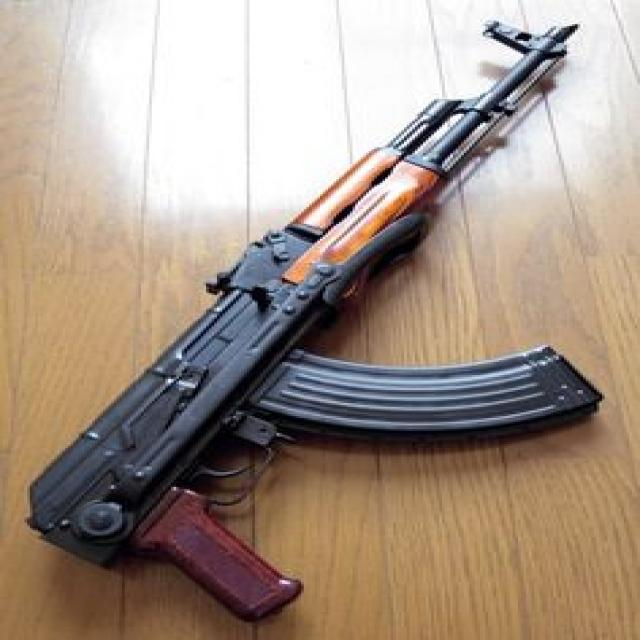ak: (27, 10, 609, 622)
